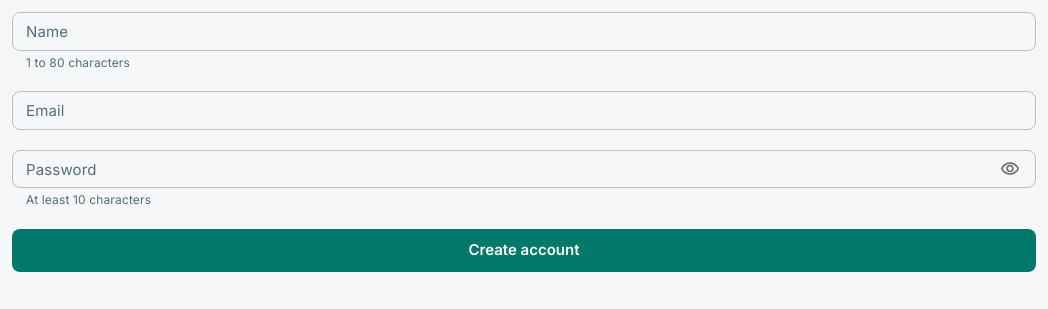
Test: SignUpForm › shows the contract rules for each field and sends nothing
Type "not-an-email" into the field labelled "Email" at (524, 111), box x1=12 y1=91 x2=1036 y2=130
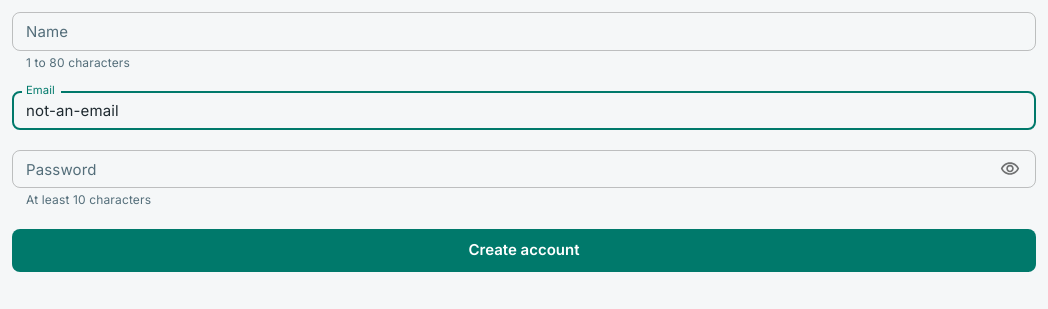
Type "short" into the password field labelled "Password" at (500, 169), box x1=12 y1=150 x2=987 y2=188
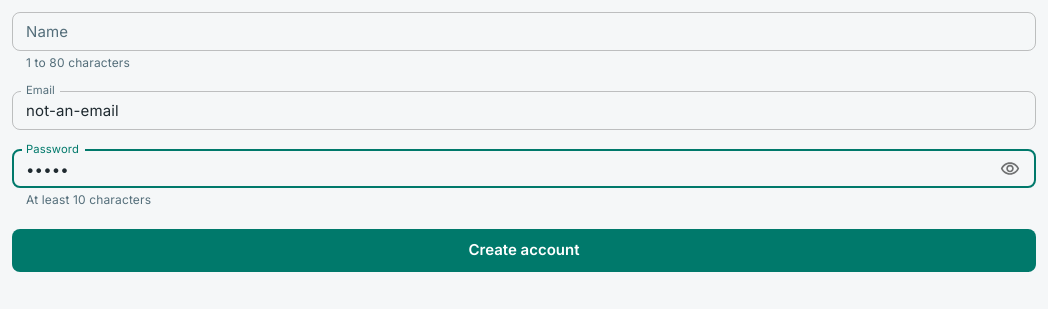
Click the button "Create account" at (524, 250), box x1=12 y1=229 x2=1036 y2=272
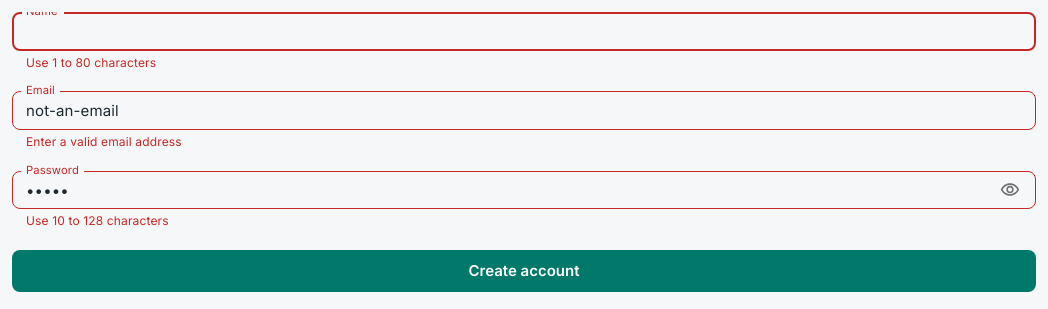
Expected: the text "Enter a valid email address" is shown, x1=26 y1=134 x2=182 y2=149
Expected: the text "Use 10 to 128 characters" is shown, x1=26 y1=213 x2=169 y2=228
